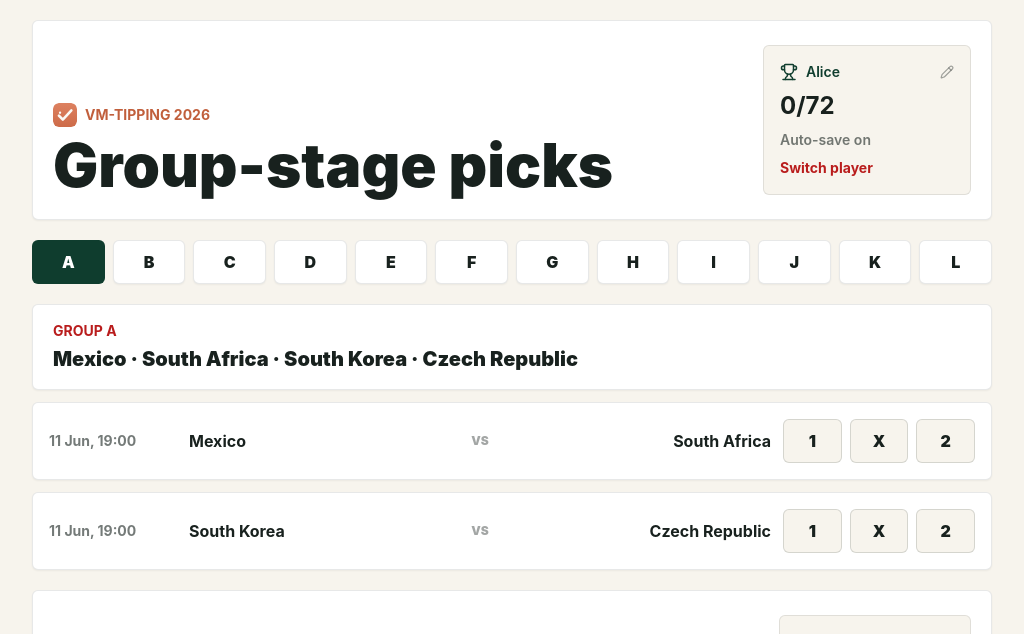
Test case: PlayerPage › group picks › says when a match has locked
Click the 1st button "1".
click(812, 441)  # box [783,419,842,463]
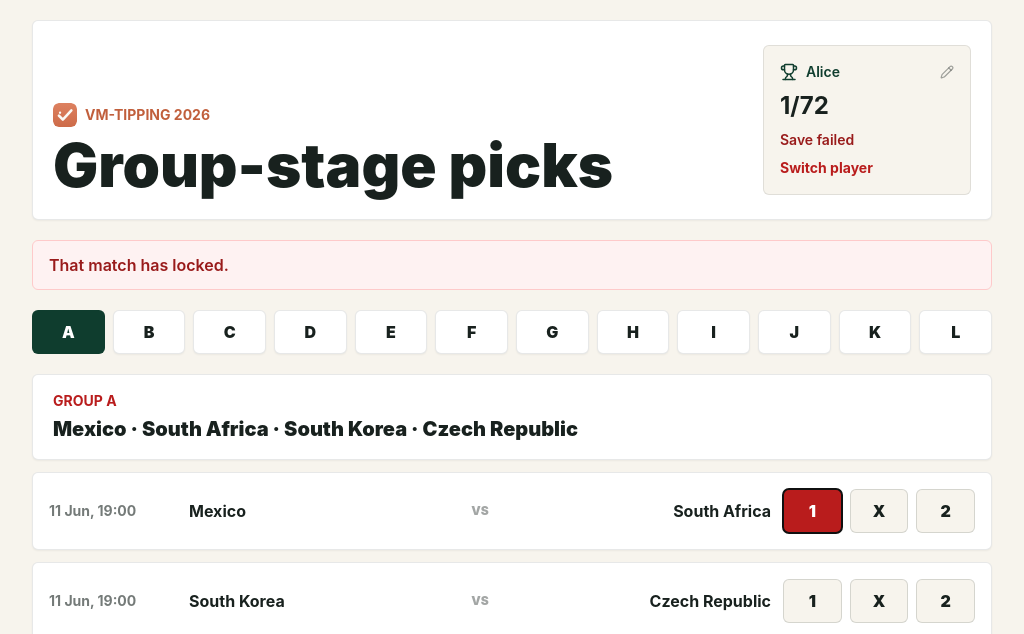
Check: the text "That match has locked." is shown, box [32,240,992,290]
Check: the text "Save failed" is shown, box [780,131,854,148]
